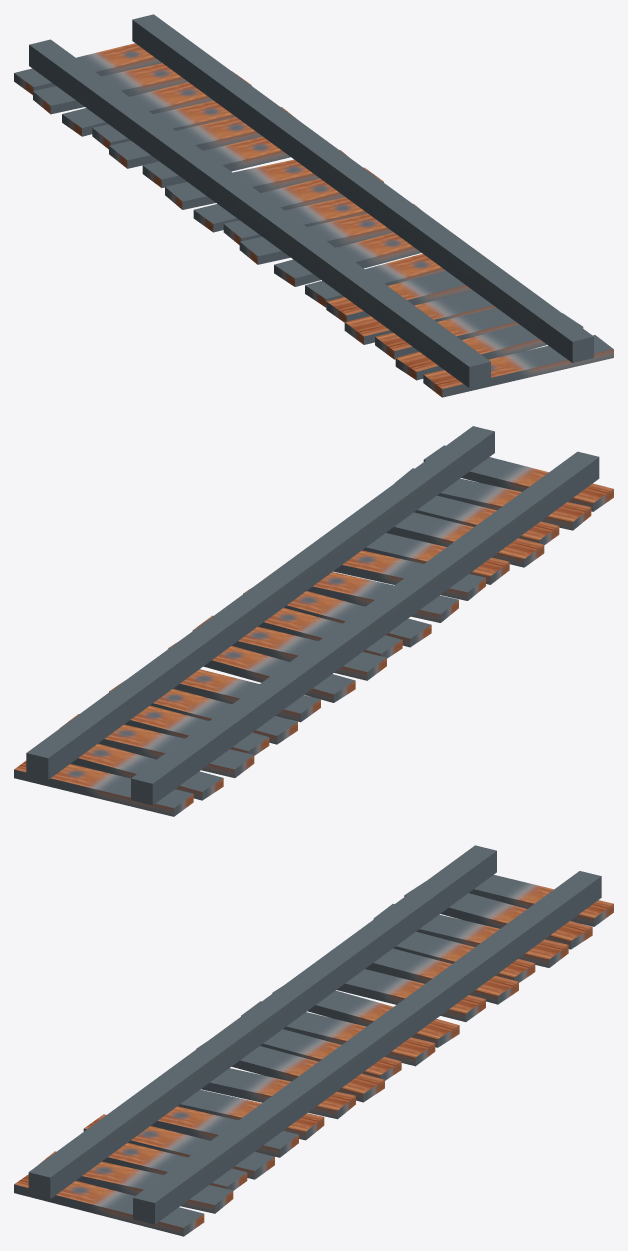
File: long.fbx
3 renders of one model, top to bottom at view 1: azimuth 30°, elevation 25°; view 2: azimuth 150°, elevation 25°; view 3: azimuth 330°, elevation 25°, orthographic.
Parts seen in each view (by area): view 1: long; view 2: long; view 3: long.
Boxes of the visible parts, bbox=[...] form: long: bbox=[14, 14, 613, 397]; long: bbox=[14, 426, 613, 816]; long: bbox=[14, 845, 613, 1236].
Size of the model in its own units: 12.59 by 2.08 by 54.85.
